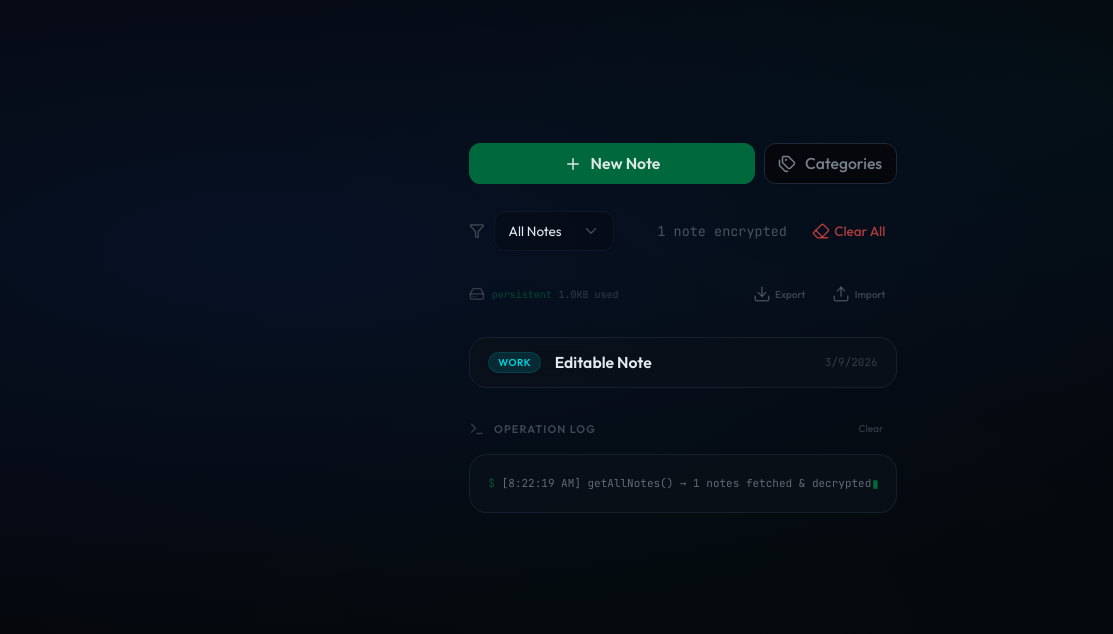
Test case: NotesApp › clicking edit opens editor with note data
Click note to open detail view, then click edit
Click the heading "Editable Note".
click(603, 362)  # box [555, 352, 652, 372]
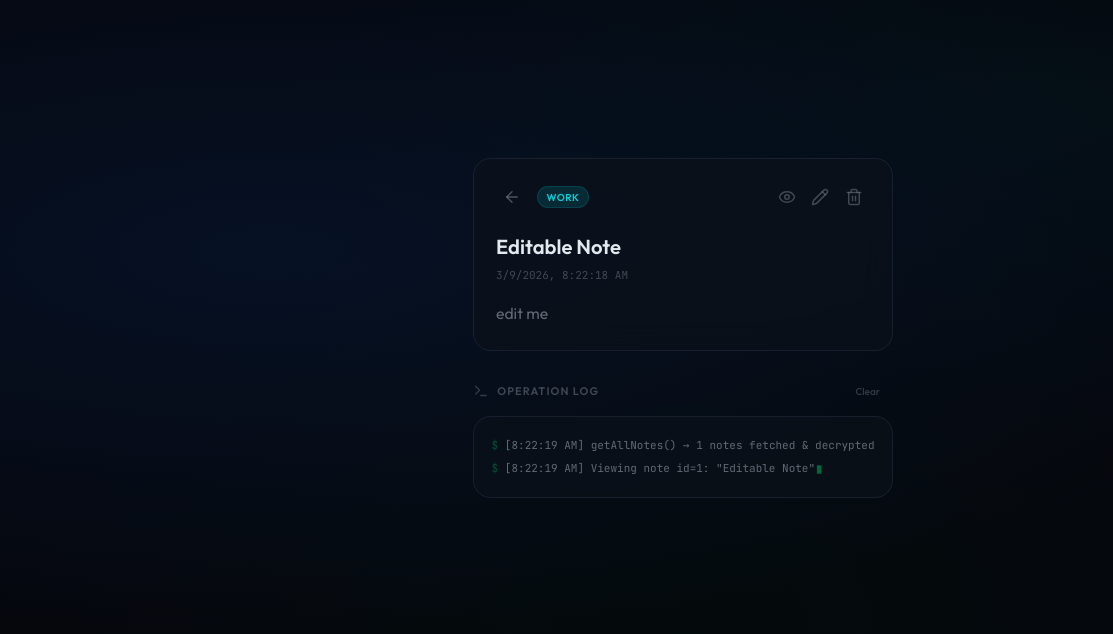
Result: the button titled "Edit" is shown
Click the button titled "Edit".
click(820, 197)  # box [805, 181, 836, 213]
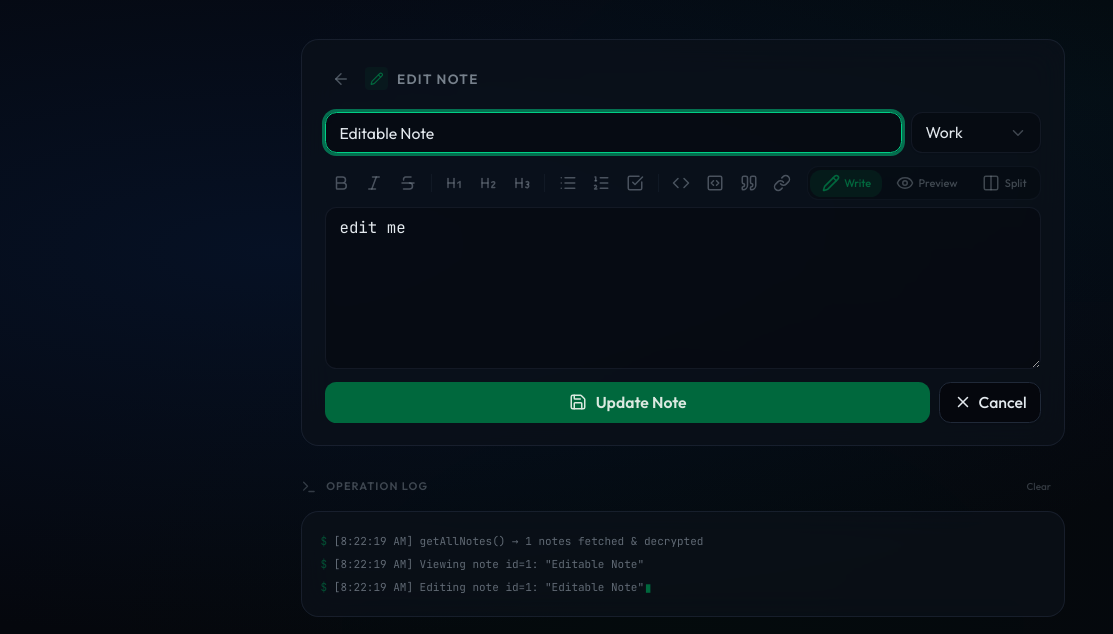
Result: the text "Edit Note" is shown at [397, 70, 479, 88]
Result: the field with placeholder "Note title..." holds "Editable Note" at [325, 112, 902, 153]
Result: the button "Update Note" is shown at [325, 382, 930, 422]
